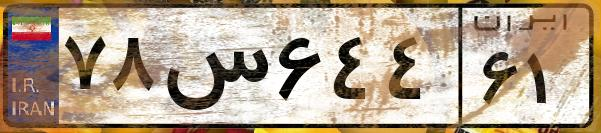1: (525, 38, 570, 115)
4: (385, 28, 445, 110), (330, 28, 385, 110)
6: (270, 28, 330, 110), (475, 38, 525, 113)
7: (57, 26, 110, 100)
8: (110, 28, 158, 98)
س: (158, 20, 270, 120)
